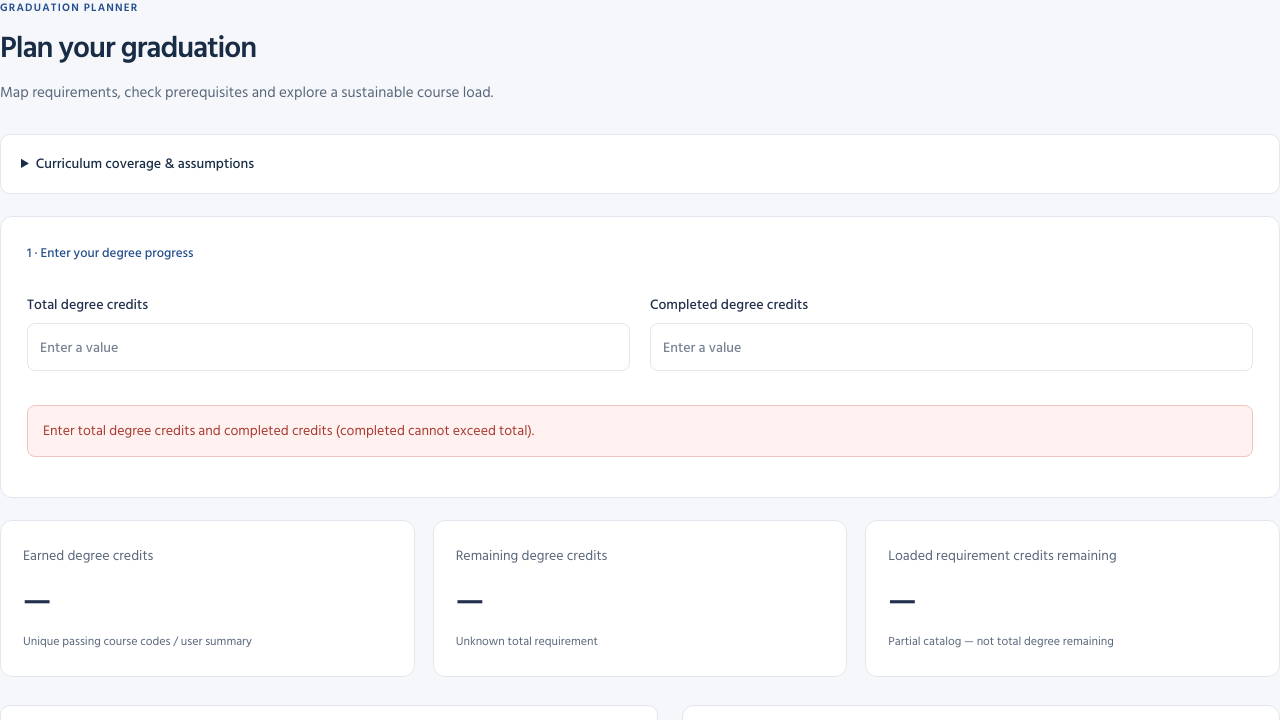
Scenario: graduation estimates use editable totals and reject impossible progress
Type "141" into the number field labelled "Total degree credits".
click(328, 347); type("141")  # box [27, 323, 630, 371]
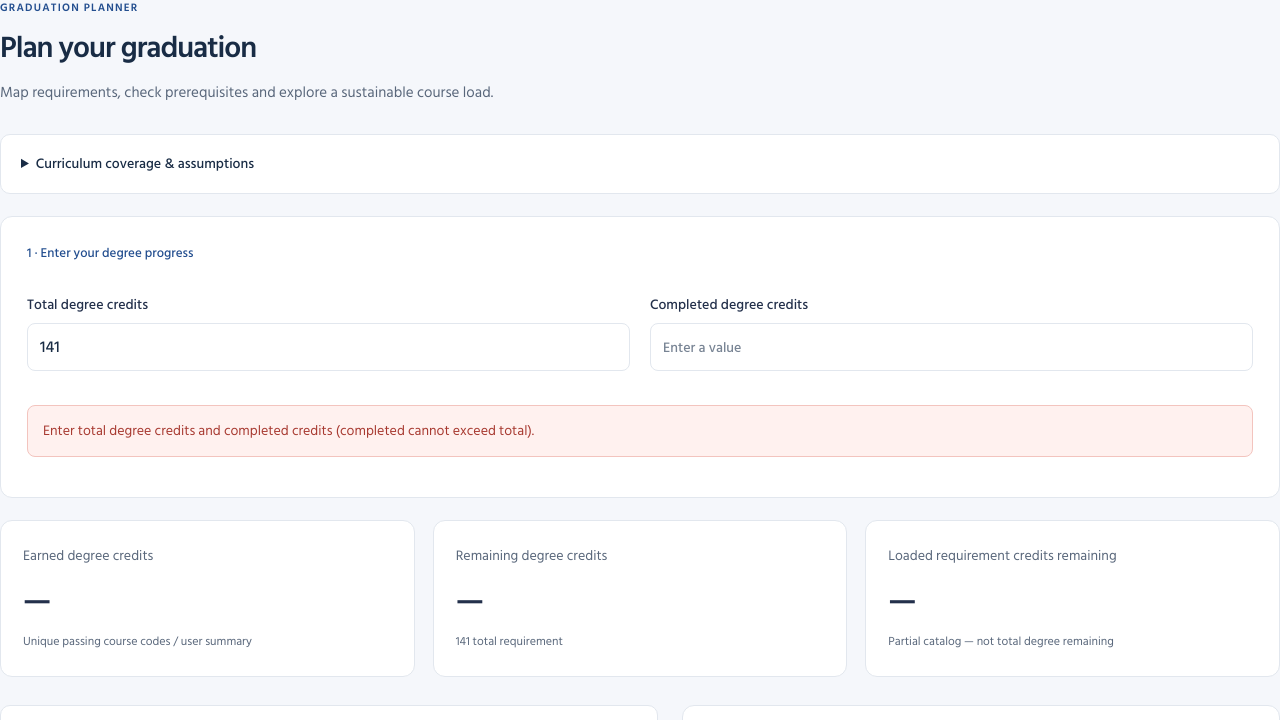
Type "42" into the number field labelled "Completed degree credits".
click(952, 347); type("42")  # box [650, 323, 1253, 371]
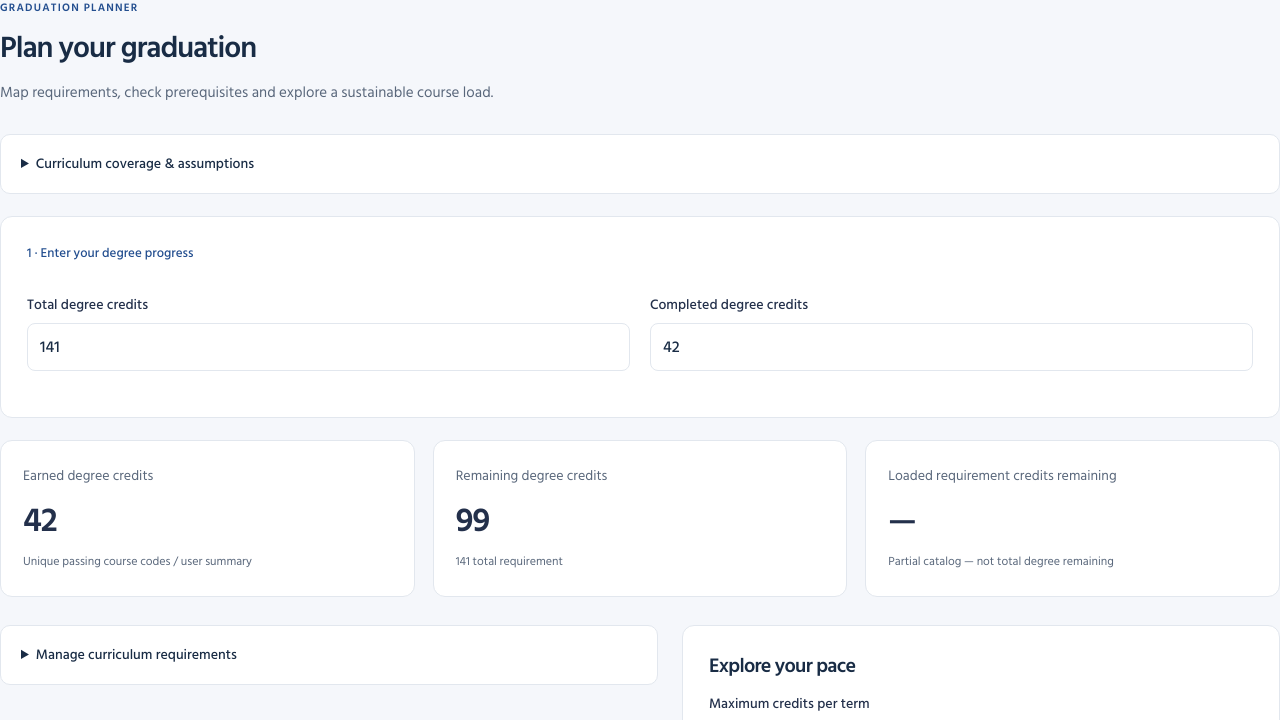
Expected: the text "99" is shown, [456, 493, 489, 548]
Replace the text in the number field labelled "Completed degree credits" with "142" at (952, 347), box [650, 323, 1253, 371]
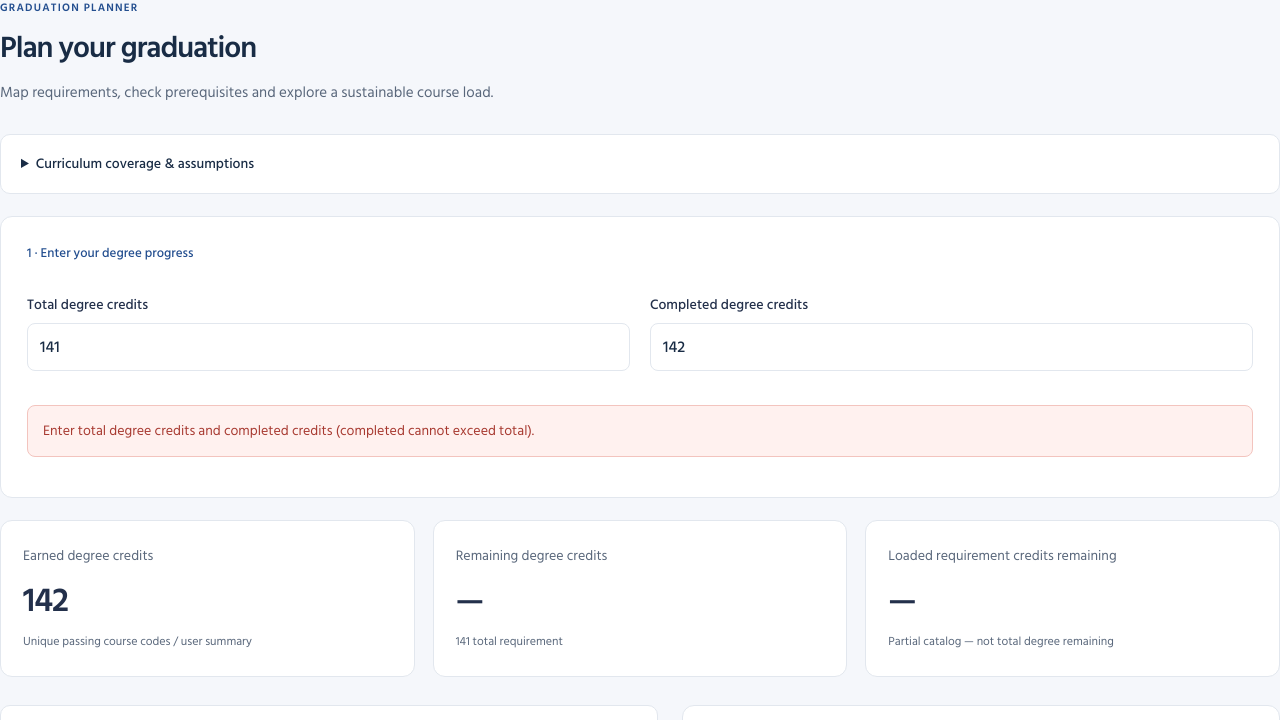
Expected: the message shows "cannot exceed", [43, 419, 534, 442]
